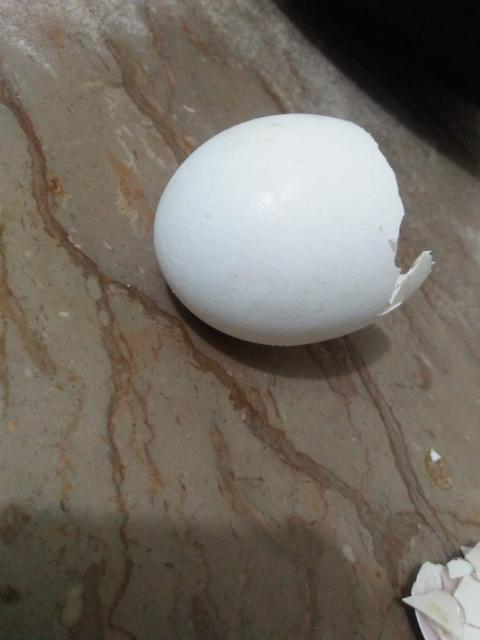Roto: (152, 111, 427, 348), (401, 540, 479, 639)
